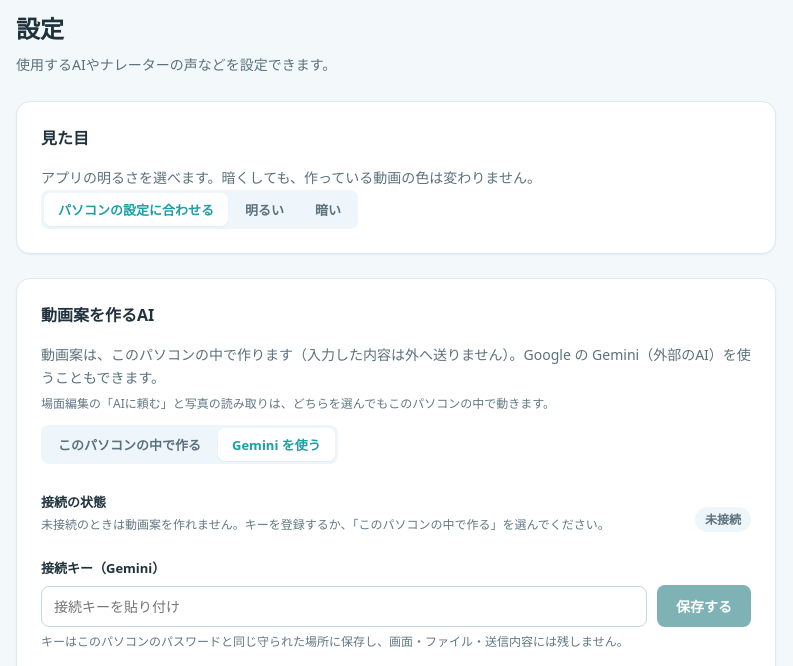
接続キーは、起きたことを言い分ける（#1131） › 保存できたなら、状態を確かめられなくても「保存できませんでした」と言わない
The image size is (793, 666).
Type "test-key" into the password field with placeholder "接続キーを貼り付け" at [344, 606], box [41,586,647,627]
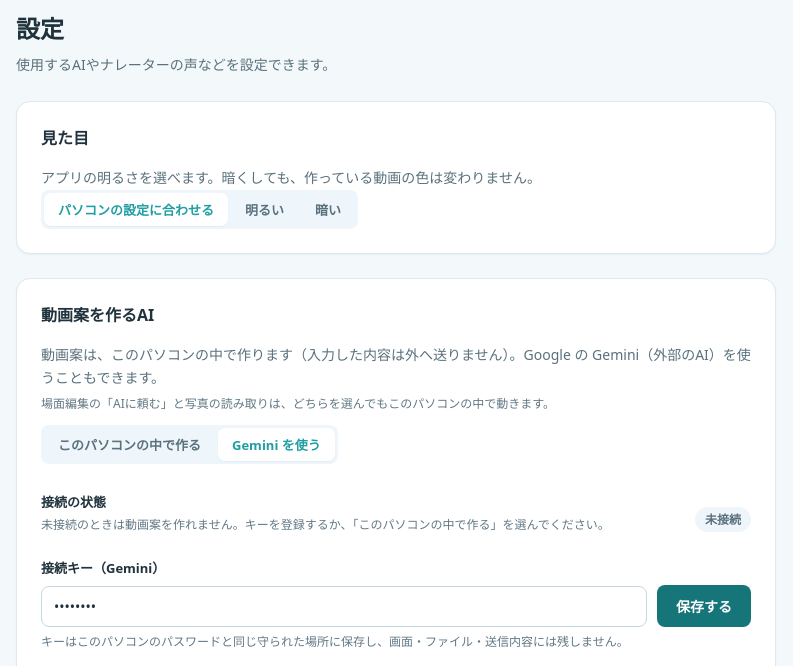
Click the button "保存する" at [704, 606], box [657,585,751,627]
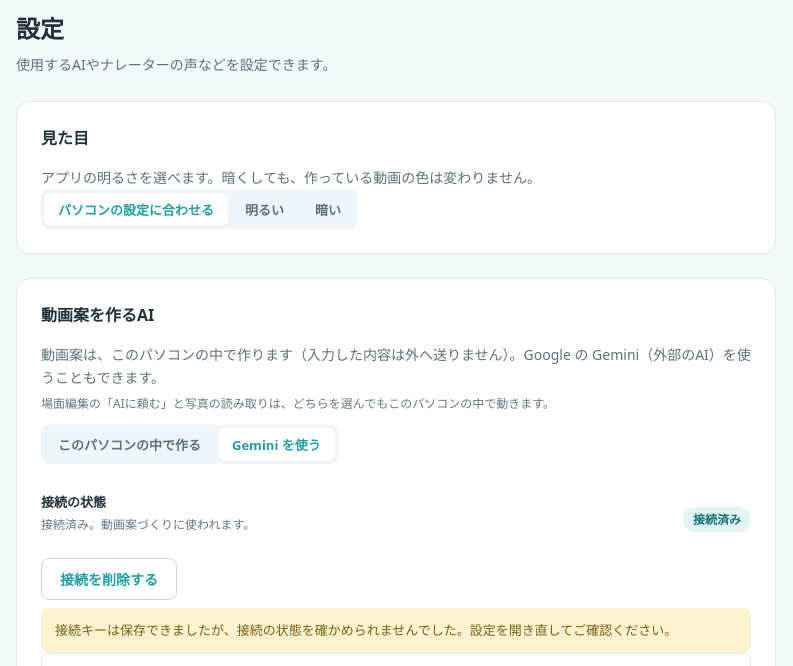
Check: the text "接続キーは保存できましたが" is shown, box [55,621,677,639]
Check: the text "接続済み" is shown, box [683,507,751,532]
